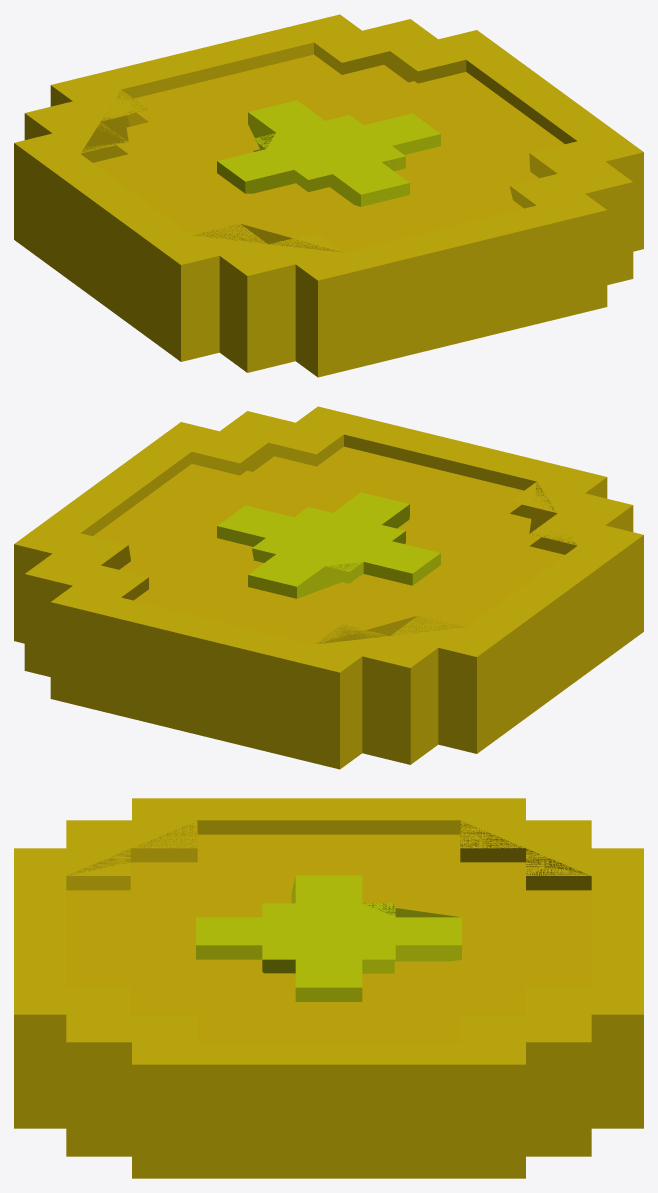
Rendered from coin.obj.
The picture shows the model from 3 angles, top to bottom: view 1: azimuth 30°, elevation 25°; view 2: azimuth 150°, elevation 25°; view 3: azimuth 270°, elevation 25°; orthographic projection. The views are drawn at different scales.
Visible parts, largest first — view 1: Cube.006, Cube, Cube.001; view 2: Cube.006, Cube, Cube.001; view 3: Cube.006, Cube, Cube.001.
Boxes of the visible parts, x1,y1,x2,y2 form: Cube.006: (14,14,643,377); Cube: (93,54,564,252); Cube.001: (217,100,440,206); Cube.006: (14,406,643,769); Cube: (93,446,564,644); Cube.001: (217,492,440,598); Cube.006: (14,798,643,1178); Cube: (66,834,591,1042); Cube.001: (196,875,461,1001).
Size of the model in its own units: 1 by 0.2 by 1.
